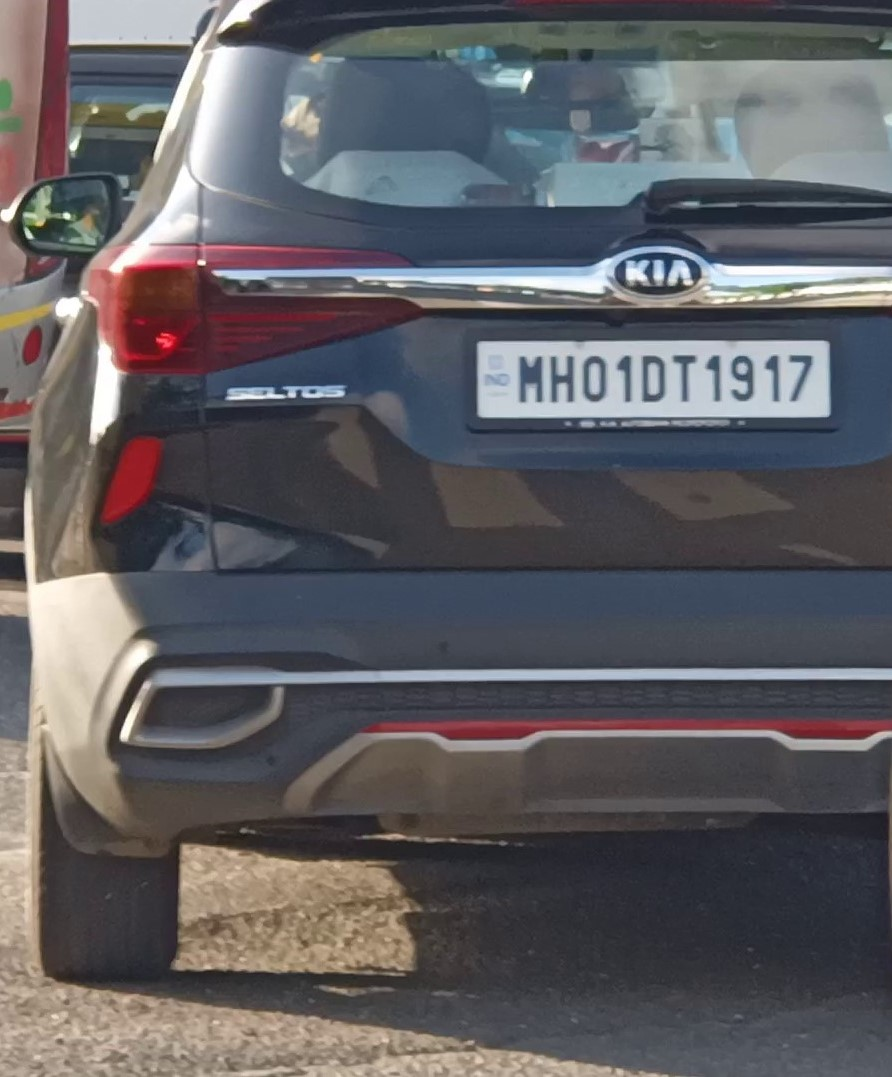MH01DT1917: (472, 335, 831, 419)
